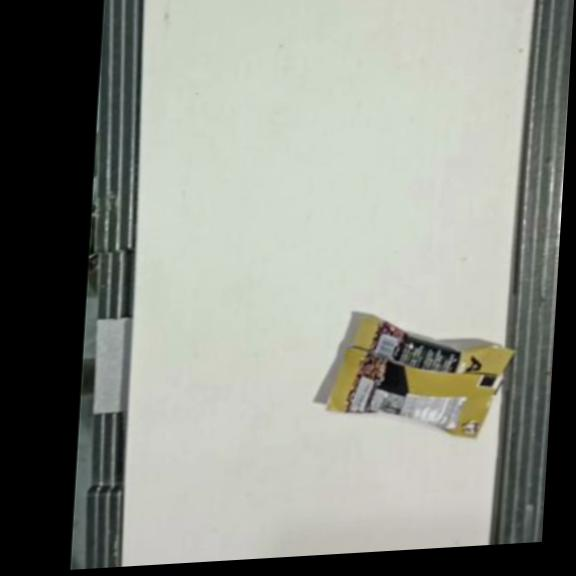Plastik: (322, 307, 516, 448)
